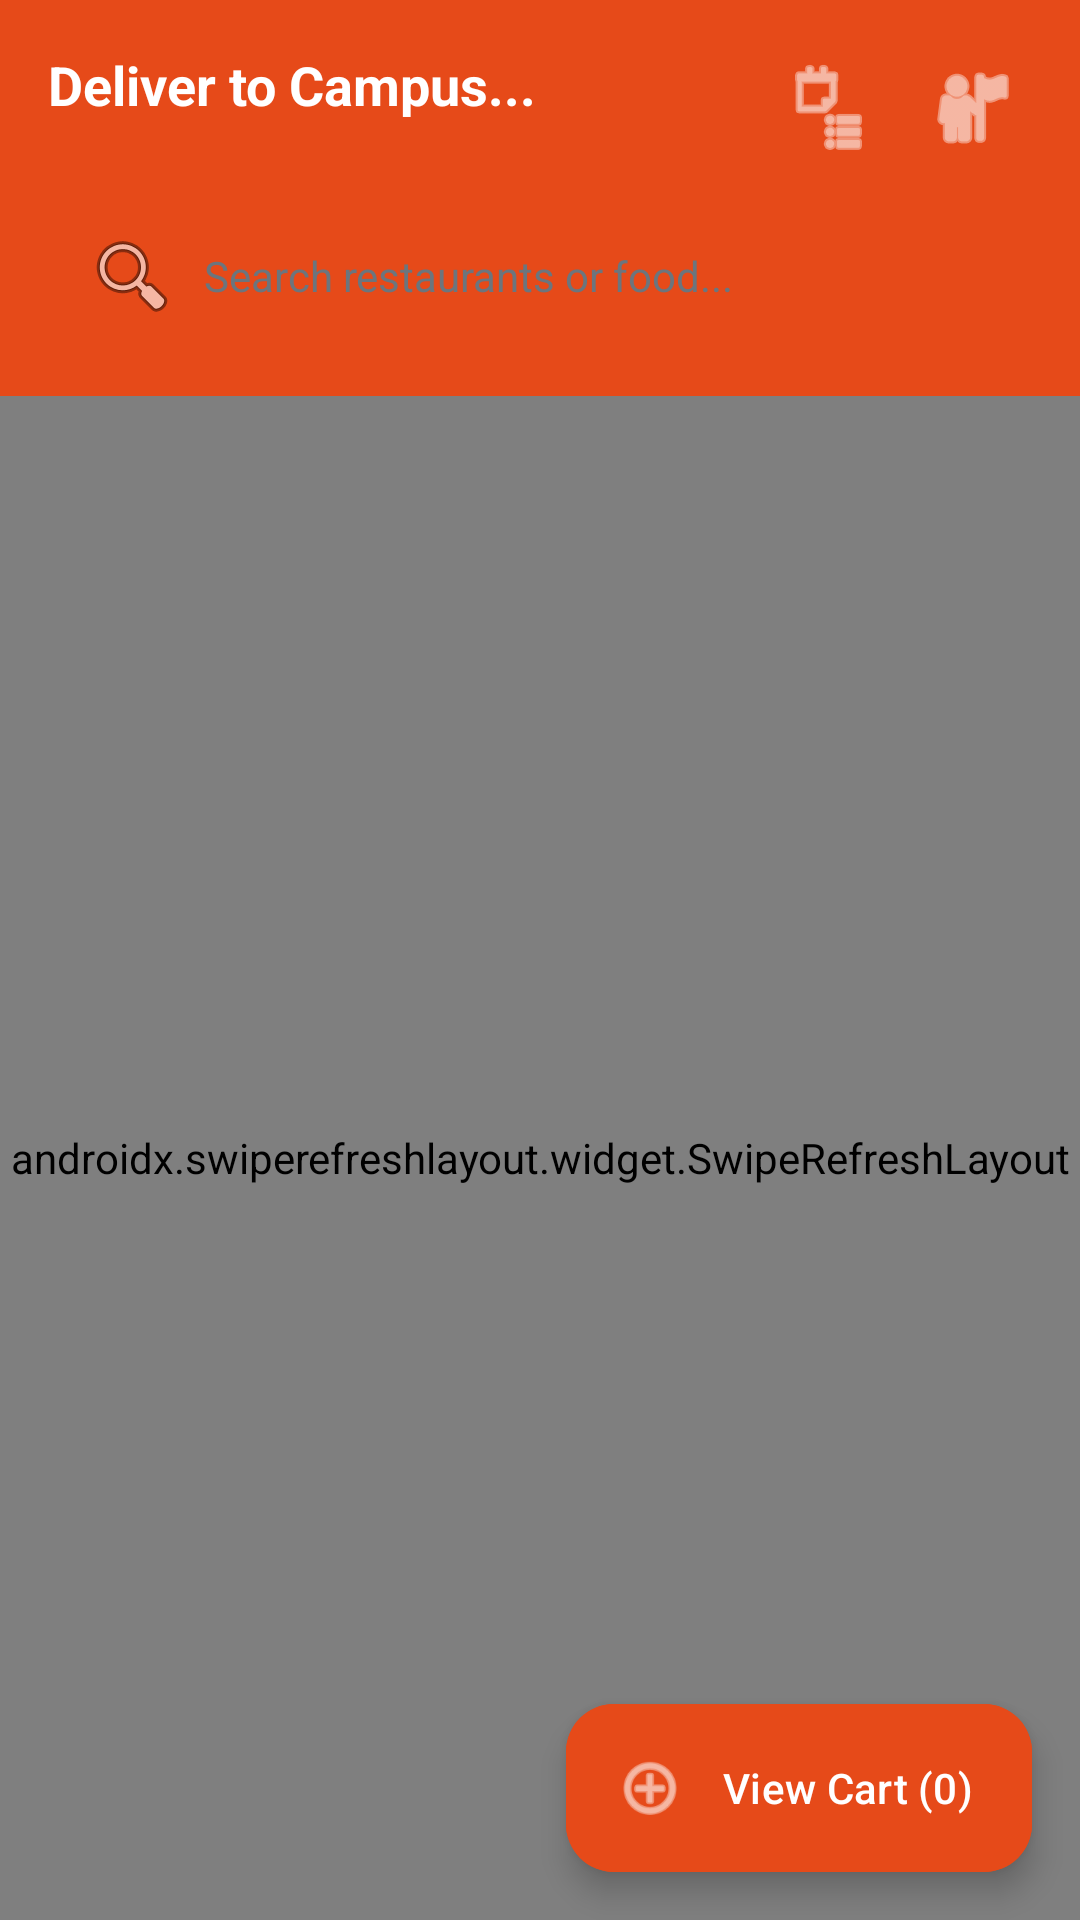

Icons on this 1080*1920 Android screen, each with the point to tap as point (x, y):
agenda: point (828, 107)
myplaces: point (973, 108)
